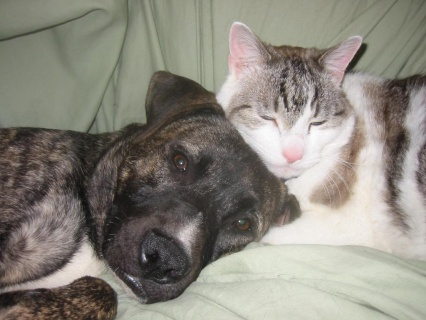Cat: (212, 20, 426, 262)
